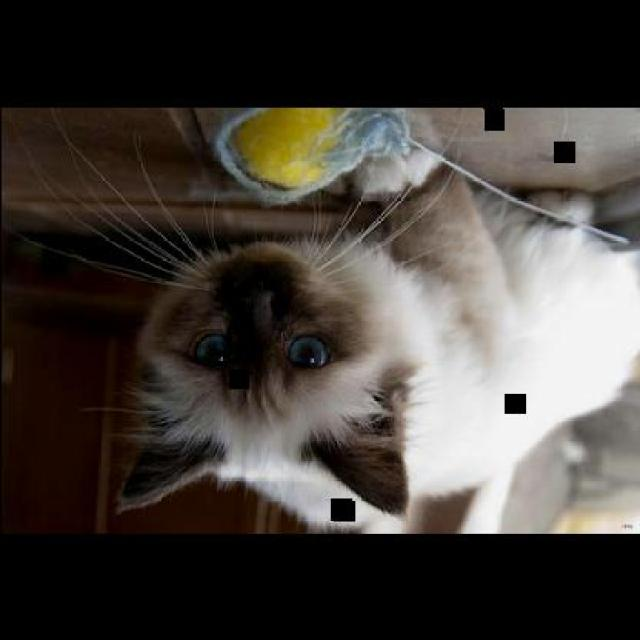unauthorized: (3, 106, 639, 534)
